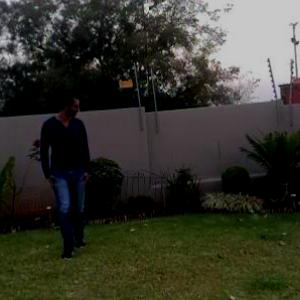follow: (40, 82, 95, 260)
